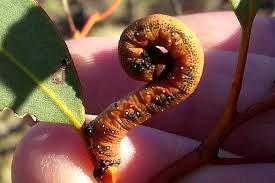Caterpillar: (87, 8, 205, 183)
